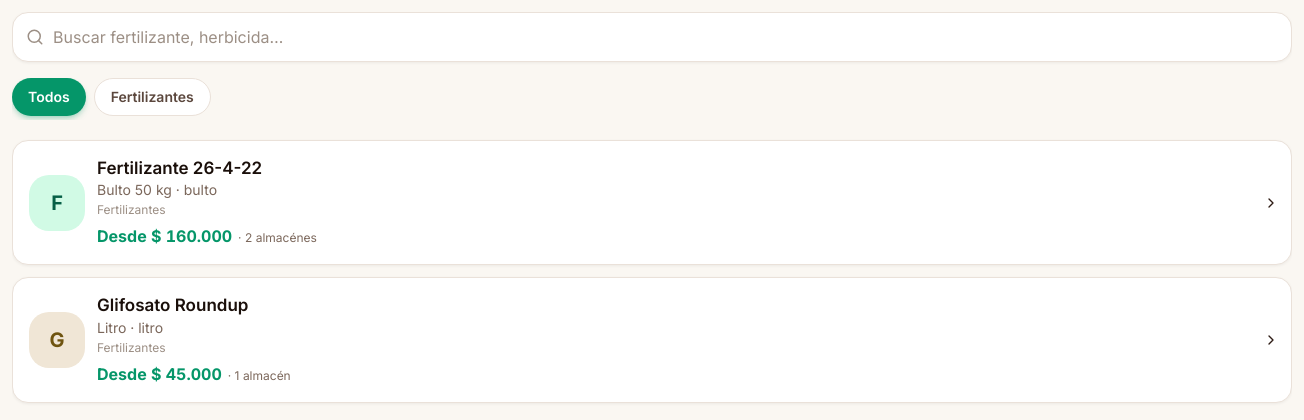
Test case: CatalogoCliente — búsqueda › muestra estado vacío cuando búsqueda no coincide con ningún producto
Type "xyz-inexistente" into the search field at (652, 37), box [12,12,1292,62]
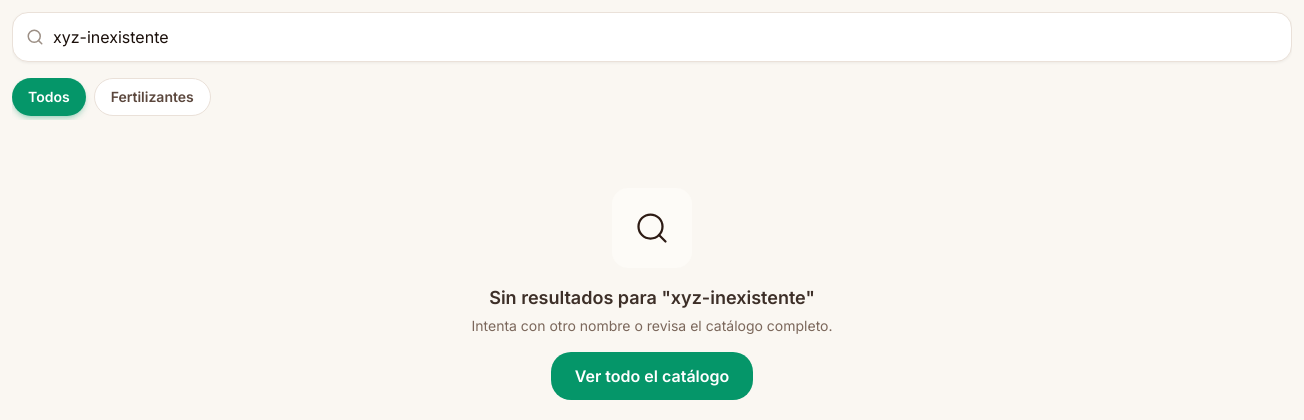
Check: the link "Fertilizante 26-4-22" is gone
Check: the link "Glifosato Roundup" is gone
